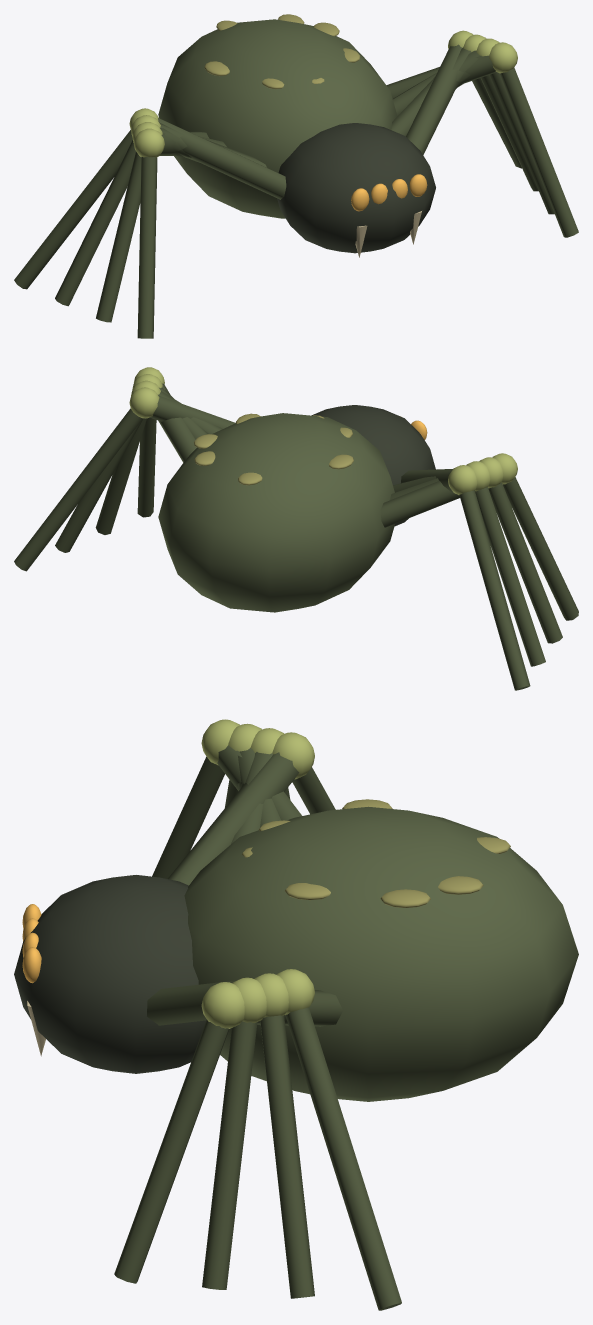
Rendered from spider.glb.
3 renders of one model, top to bottom at view 1: azimuth 30°, elevation 25°; view 2: azimuth 150°, elevation 25°; view 3: azimuth 270°, elevation 25°, orthographic. The views are drawn at different scales.
Visible parts, largest first — view 1: abdomen, lower (×8), head, upper (×6), joint (×2); view 2: abdomen, lower (×8), upper (×4), head, joint (×4); view 3: abdomen, lower (×6), head, upper (×6), joint (×6), mark.
Boxes of the visible parts, bbox=[...] form: abdomen: bbox=[158, 19, 397, 218]; lower (×8): bbox=[14, 67, 578, 338]; head: bbox=[277, 123, 435, 253]; upper (×6): bbox=[158, 44, 496, 199]; joint (×2): bbox=[134, 42, 517, 157]; abdomen: bbox=[158, 413, 394, 612]; lower (×8): bbox=[14, 408, 578, 690]; upper (×4): bbox=[150, 383, 459, 527]; head: bbox=[311, 405, 435, 526]; joint (×4): bbox=[129, 387, 517, 494]; abdomen: bbox=[184, 806, 578, 1101]; lower (×6): bbox=[114, 756, 401, 1310]; head: bbox=[14, 875, 206, 1073]; upper (×6): bbox=[147, 745, 342, 1026]; joint (×6): bbox=[201, 719, 314, 1028]; mark: bbox=[380, 889, 430, 907].
Size of the model in its own units: 5.32 by 1.96 by 3.33.
